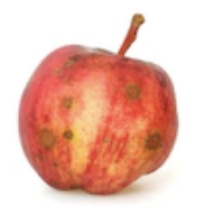apple: (56, 14, 212, 171)
